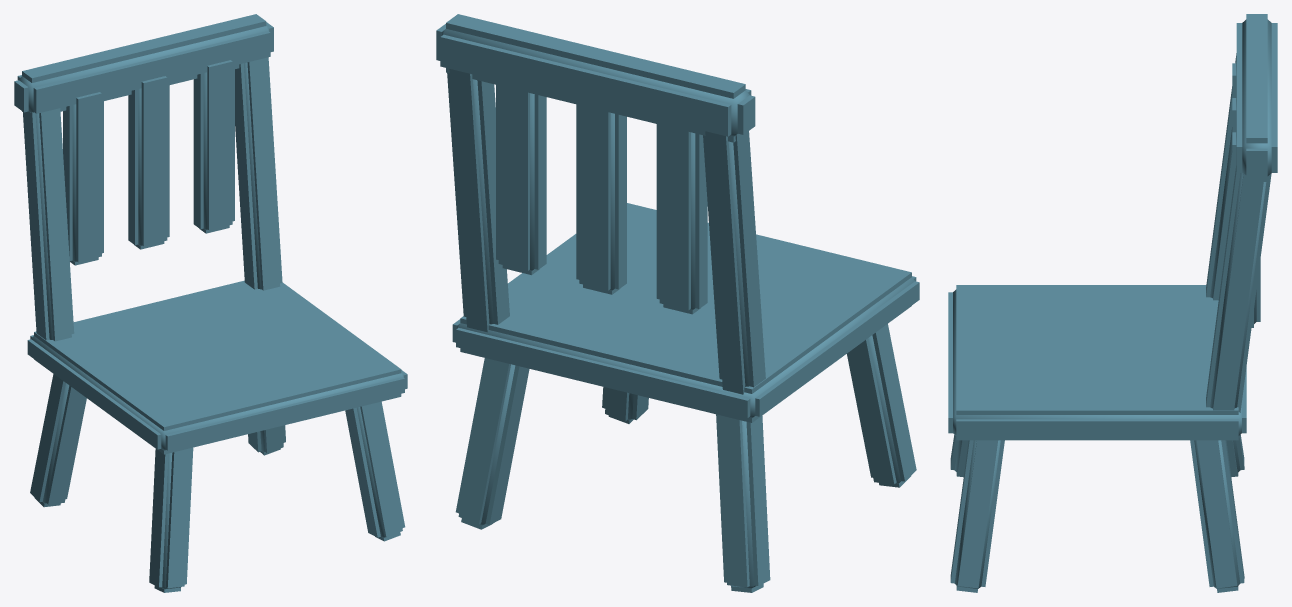
File: PlasticChairLow.glb
The picture shows the model from 3 angles, left to right: view 1: azimuth 30°, elevation 25°; view 2: azimuth 150°, elevation 25°; view 3: azimuth 270°, elevation 25°; orthographic projection. The views are drawn at different scales.
Parts seen in each view (by area): view 1: ST_PlasticChairLow_ST_plastic_blue.001; view 2: ST_PlasticChairLow_ST_plastic_blue.001; view 3: ST_PlasticChairLow_ST_plastic_blue.001.
Part boxes in pixels (x1=…): ST_PlasticChairLow_ST_plastic_blue.001: x1=14, y1=14, x2=407, y2=592; ST_PlasticChairLow_ST_plastic_blue.001: x1=436, y1=14, x2=919, y2=592; ST_PlasticChairLow_ST_plastic_blue.001: x1=948, y1=14, x2=1277, y2=592.
Bounding box in the file's own units: 0.42 × 0.676 × 0.4415.
